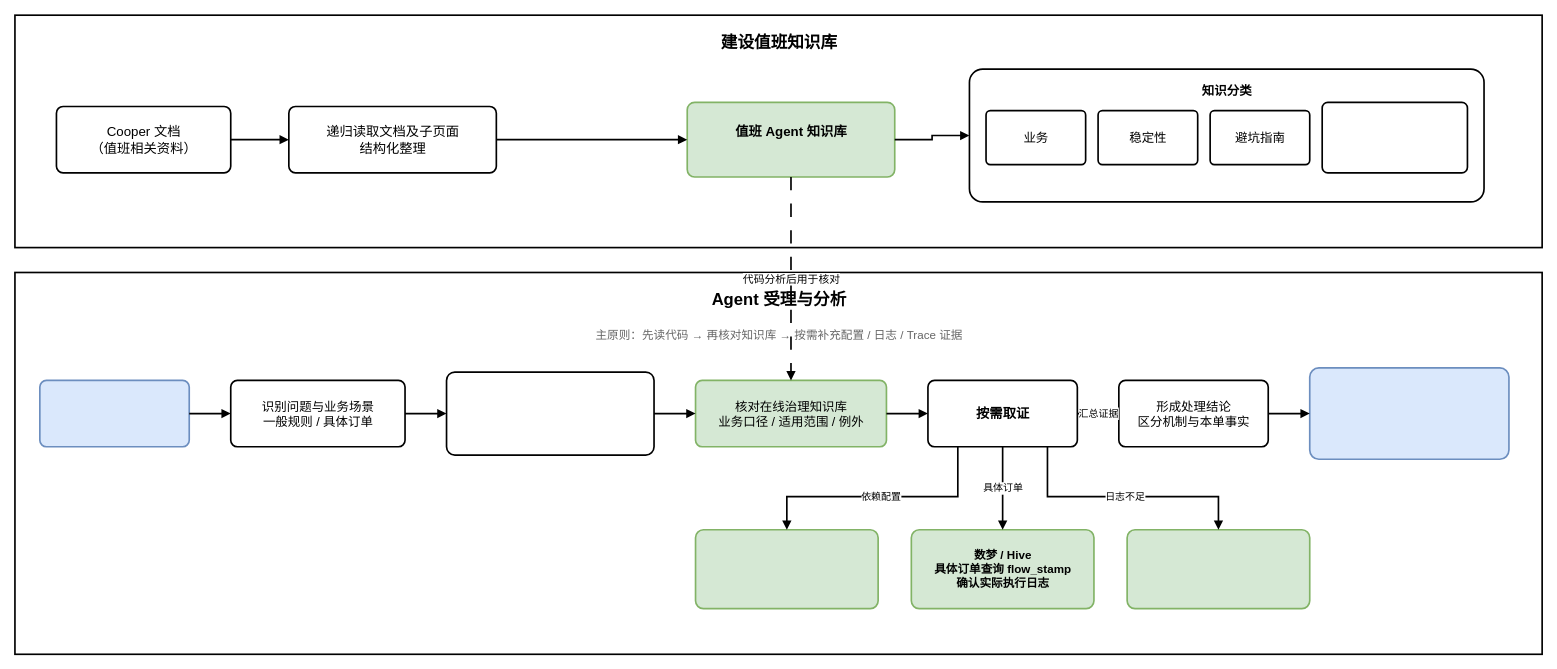
This 1557x669 diagram has some shape labels left out. The box of each missing label's shape, as (x1, y1, x2, y2) in pixels:
Agent 输出 答复 / 事实与证据 关键代码依据 / 查询情况: (1308, 367, 1509, 460)
Apollo 代码依赖配置时查询 当前线上已发布值: (694, 529, 879, 609)
observe-cn / Trace 仅日志证据不足时补查 调用链 / 下游结果: (1126, 529, 1310, 609)
代码分析（核心） core-api 为主，必要时 door-gods 条件 → 处理 → 结果 → 例外: (445, 371, 654, 456)
取消治理常见 Case 等待费 / 投诉 / 免责 / 典型问题: (1321, 101, 1468, 173)
用户提问: (39, 379, 190, 447)
